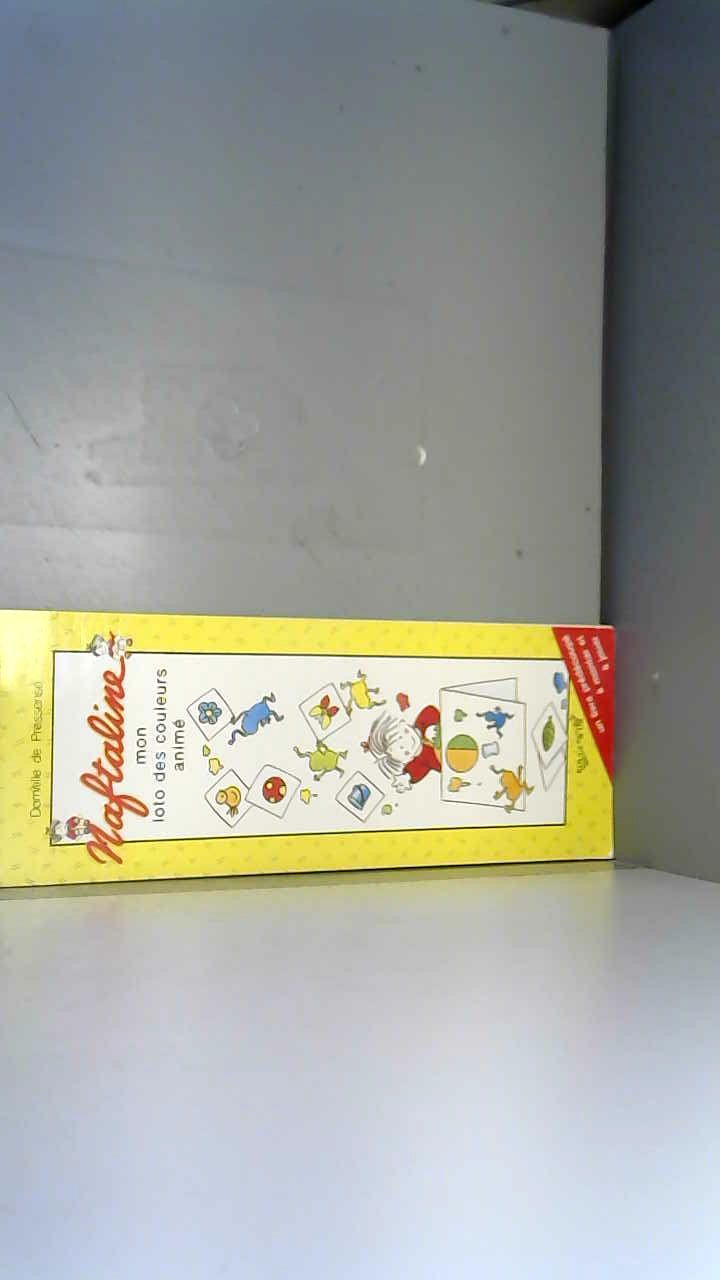book: (0, 591, 634, 915)
